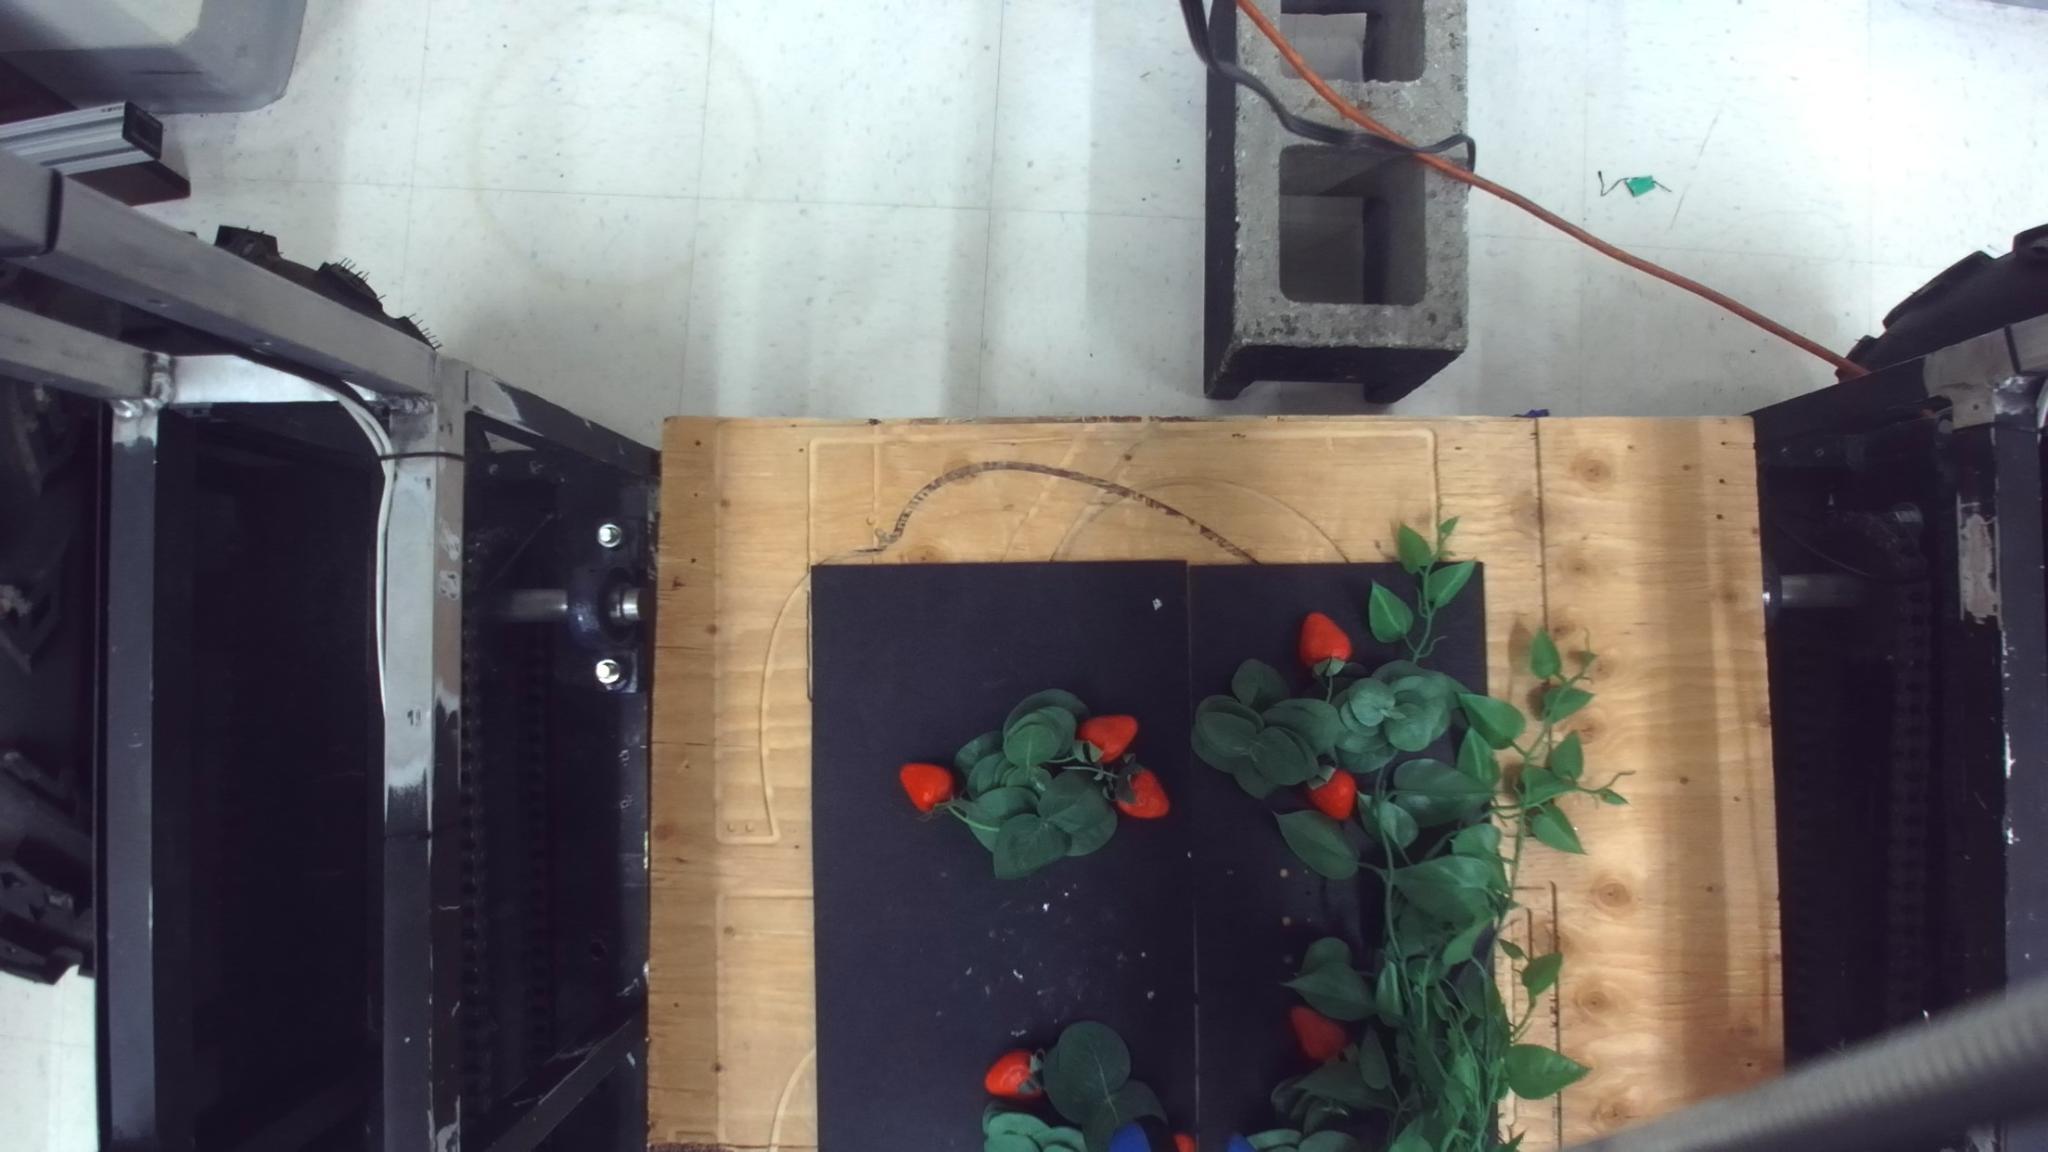strawberry: (1108, 758, 1170, 820), (1287, 1003, 1349, 1062), (1297, 610, 1353, 672), (982, 1049, 1045, 1101), (1076, 713, 1138, 765), (897, 761, 954, 813), (1304, 765, 1356, 820)
